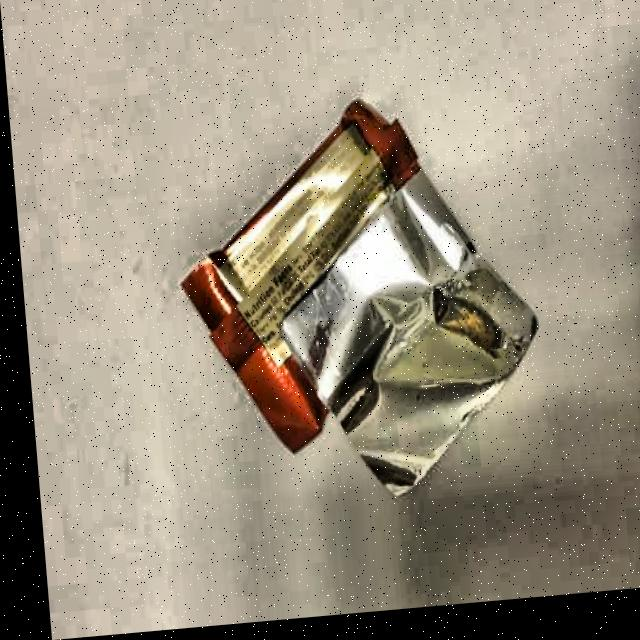plastic: (162, 69, 557, 534)
